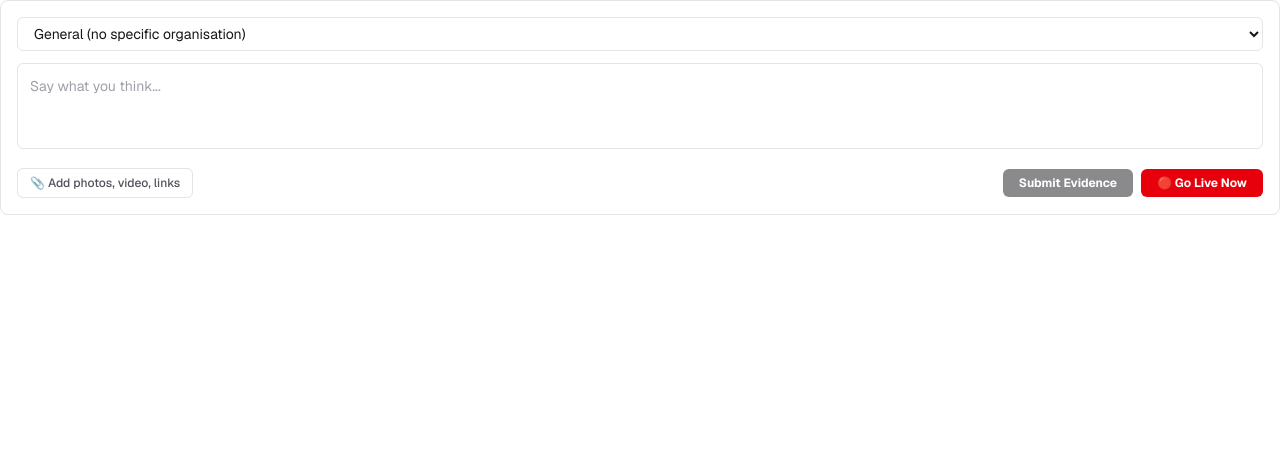
EvidenceComposer › shows file inputs when media section is toggled open
Click the button "📎 Add photos, video, links" at (105,183), box [17,168,193,198]
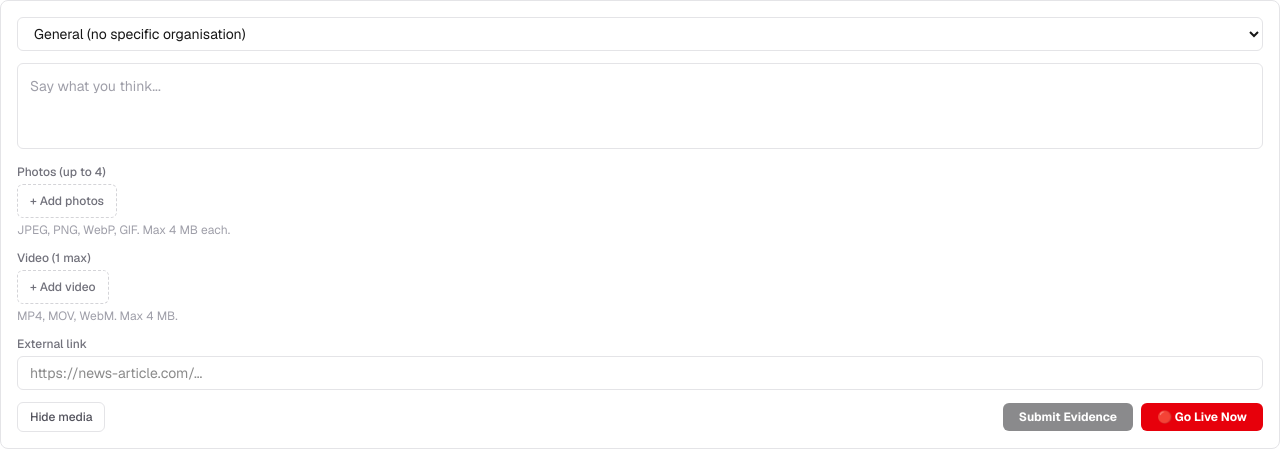
Expected: the file field with test id "photo-input" is shown, [17,184,117,218]
Expected: the file field with test id "video-input" is shown, [17,270,109,304]
Expected: the text "+ Add photos" is shown, [30,193,104,209]
